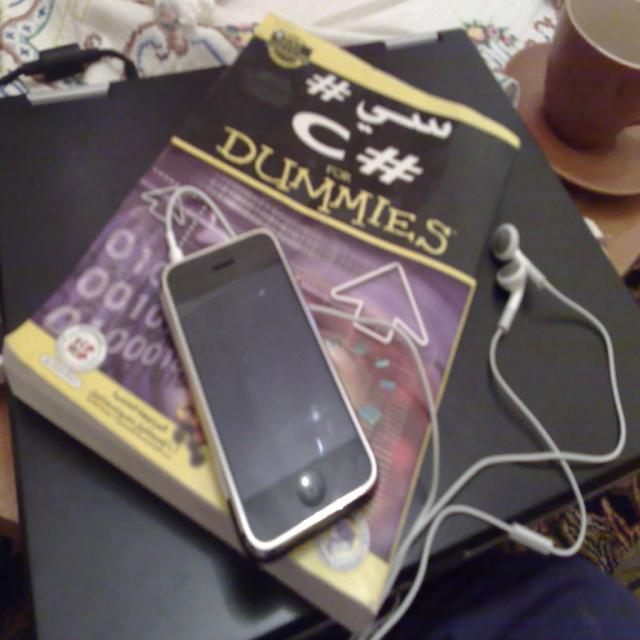Mobile-phone: (156, 226, 382, 568)
